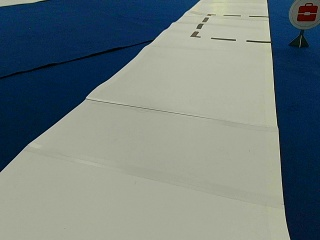company: (288, 0, 319, 29)
